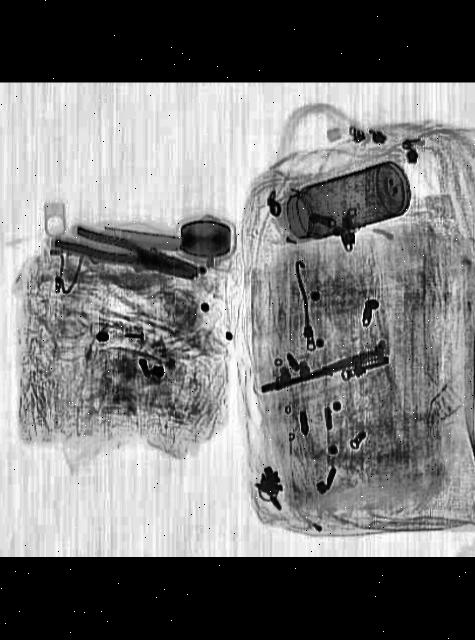Pliers: (53, 222, 202, 289)
